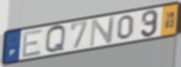0: (115, 14, 136, 42)
7: (69, 19, 91, 51)
9: (141, 8, 160, 39)
E: (21, 28, 44, 59)
N: (88, 15, 117, 49)
Q: (44, 25, 67, 55)
